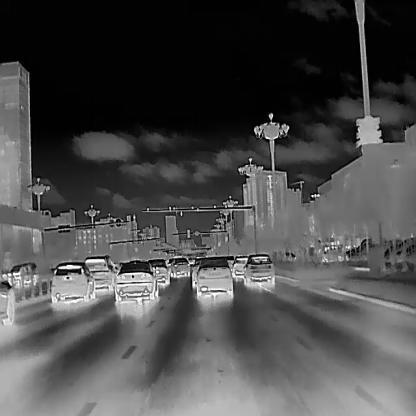car: (50, 261, 96, 304), (114, 260, 157, 304), (196, 257, 233, 299), (83, 254, 115, 292), (243, 252, 274, 285), (9, 262, 37, 287), (0, 277, 14, 322), (147, 257, 168, 284), (190, 258, 207, 290), (229, 254, 250, 279), (169, 257, 189, 277)
